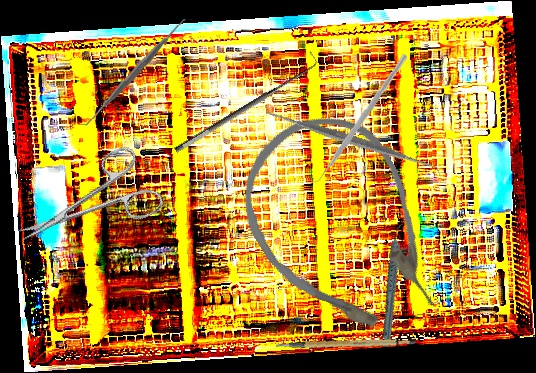Cannula: (214, 90, 470, 369)
Chopper: (304, 49, 408, 189)
Handpiece: (358, 222, 429, 348)
Hook Surgical: (167, 50, 322, 156)
Iris Scissors: (3, 140, 167, 268)
Scalpel Handle: (275, 319, 417, 365)
Spatula Surgical: (262, 52, 442, 229), (78, 13, 192, 131)
